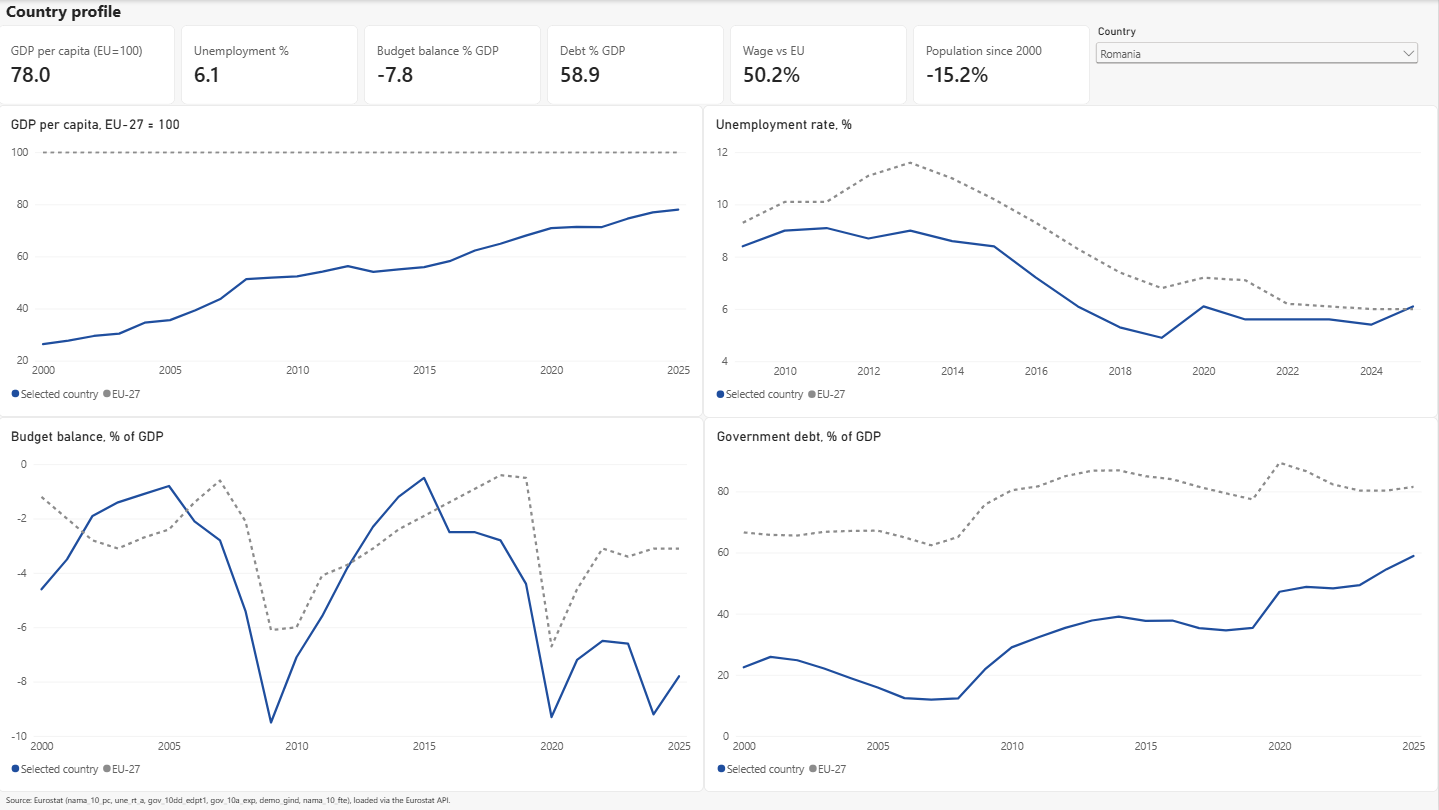

This screenshot's page, from the dashboard's own definition file:
{"tool":"powerbi","page":{"name":"Country profile","canvas":[1920,1080],"ordinal":4},"visuals":[{"type":"textbox","box":[10,0,280,280],"z":0},{"type":"slicer","fields":{"Values":["DimCountry.Country"]},"box":[1458.7,33.3,440,106.7],"z":1000},{"type":"cardVisual","fields":{"Data":["FactGDP.Latest GDP Index","FactUnemployment.Latest Unemployment","FactFinance.Latest Budget Balance","FactFinance.Latest Debt","FactWages.Latest Wage vs EU","FactPopulation.Population Change since 2000"]},"box":[0,33.3,1458.7,106.7],"z":2000},{"type":"lineChart","title":"GDP per capita, EU-27 = 100","fields":{"Category":["DimYear.Year"],"Y":["FactGDP.GDP Index","FactGDP.EU GDP Index"]},"box":[0,140,940,416],"z":3000},{"type":"lineChart","title":"Unemployment rate, %","fields":{"Category":["DimYear.Year"],"Y":["FactUnemployment.Unemployment Rate","FactUnemployment.EU Unemployment"]},"box":[940.4,139.6,979.6,416.7],"z":4000},{"type":"lineChart","title":"Budget balance, % of GDP","fields":{"Category":["DimYear.Year"],"Y":["FactFinance.Budget Balance","FactFinance.EU Budget Balance"]},"box":[0,555.9,941,500.4],"z":5000},{"type":"lineChart","title":"Government debt, % of GDP","fields":{"Category":["DimYear.Year"],"Y":["FactFinance.Government Debt","FactFinance.EU Debt"]},"box":[941,555.9,979,500.4],"z":6000},{"type":"textbox","box":[10.2,1056.3,1909.8,23.3],"z":7000}]}

Visuals, with their boxes in screenshot pixels (x1, y1, x2, y2), scaled from the page's 1920x1080 canvas onto the 1439x810 screenshot:
textbox: 7/0/217/210
slicer - DimCountry.Country: 1093/25/1423/105
cardVisual - FactGDP.Latest GDP Index x FactUnemployment.Latest Unemployment: 0/25/1093/105
"GDP per capita, EU-27 = 100" lineChart: 0/105/705/417
"Unemployment rate, %" lineChart: 705/105/1438/417
"Budget balance, % of GDP" lineChart: 0/417/705/792
"Government debt, % of GDP" lineChart: 705/417/1438/792
textbox: 8/792/1438/809
